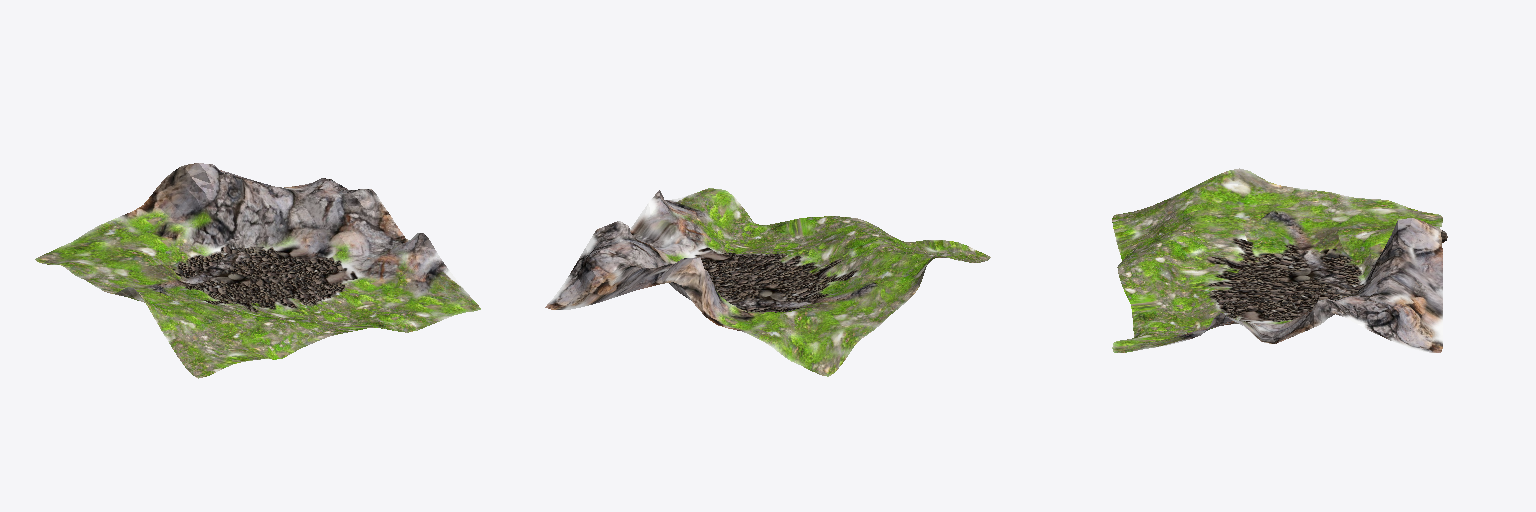
The picture shows the model from 3 angles: view 1: azimuth 30°, elevation 25°; view 2: azimuth 150°, elevation 25°; view 3: azimuth 270°, elevation 25°; orthographic projection.
Visible parts, largest first — view 1: TexturedPavillionTerrain:Group20365; view 2: TexturedPavillionTerrain:Group20365; view 3: TexturedPavillionTerrain:Group20365.
Boxes of the visible parts, x1=… form: TexturedPavillionTerrain:Group20365: x1=35, y1=163, x2=480, y2=378; TexturedPavillionTerrain:Group20365: x1=545, y1=188, x2=990, y2=376; TexturedPavillionTerrain:Group20365: x1=1112, y1=168, x2=1447, y2=352.
Size of the model in its own units: 2.06 by 0.5702 by 2.03.
1 materials, 1 textured.